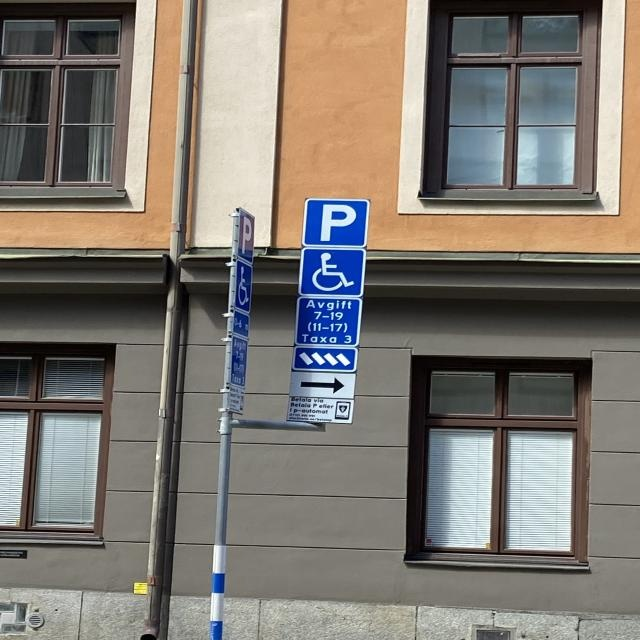P-skylt: (305, 198, 367, 249)
